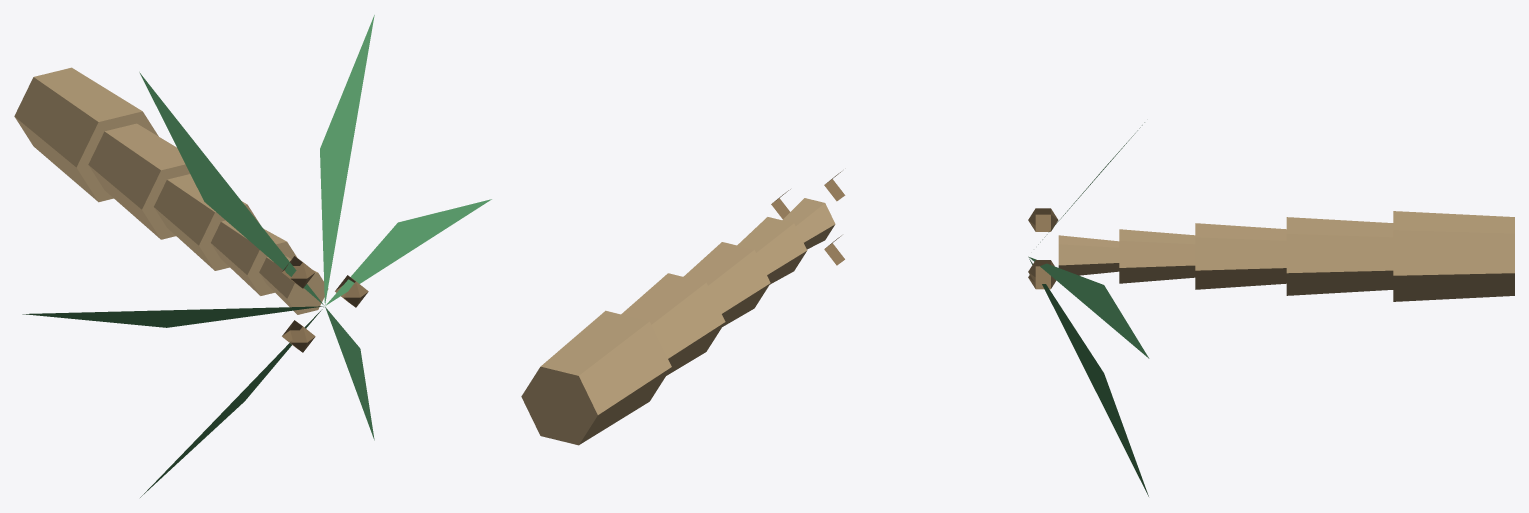
The model's file is palm_tree.glb.
3 renders of one model, left to right at view 1: azimuth 30°, elevation 25°; view 2: azimuth 150°, elevation 25°; view 3: azimuth 270°, elevation 25°, orthographic. The views are drawn at different scales.
Parts seen in each view (by area): view 1: geometry_0; view 2: geometry_0; view 3: geometry_0.
Part boxes in pixels (left/top/right/bottom): geometry_0: left=14, top=15, right=491, bottom=497; geometry_0: left=521, top=171, right=845, bottom=445; geometry_0: left=1028, top=122, right=1514, bottom=496.
Size of the model in its own units: 1.6 by 1.39 by 1.6.
